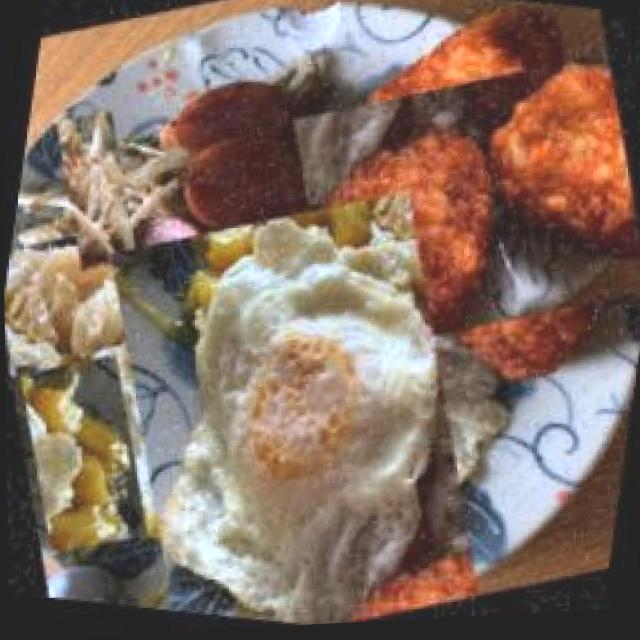chinese_cabbage: (2, 206, 157, 389)
chinese_sausage: (78, 6, 472, 365)
curry: (4, 338, 175, 573)
fried_eggs: (37, 160, 557, 639)
mung_bean_sprouts: (24, 100, 199, 280)
rice: (301, 207, 435, 346)
triangle_hash_brown: (272, 0, 640, 432)
